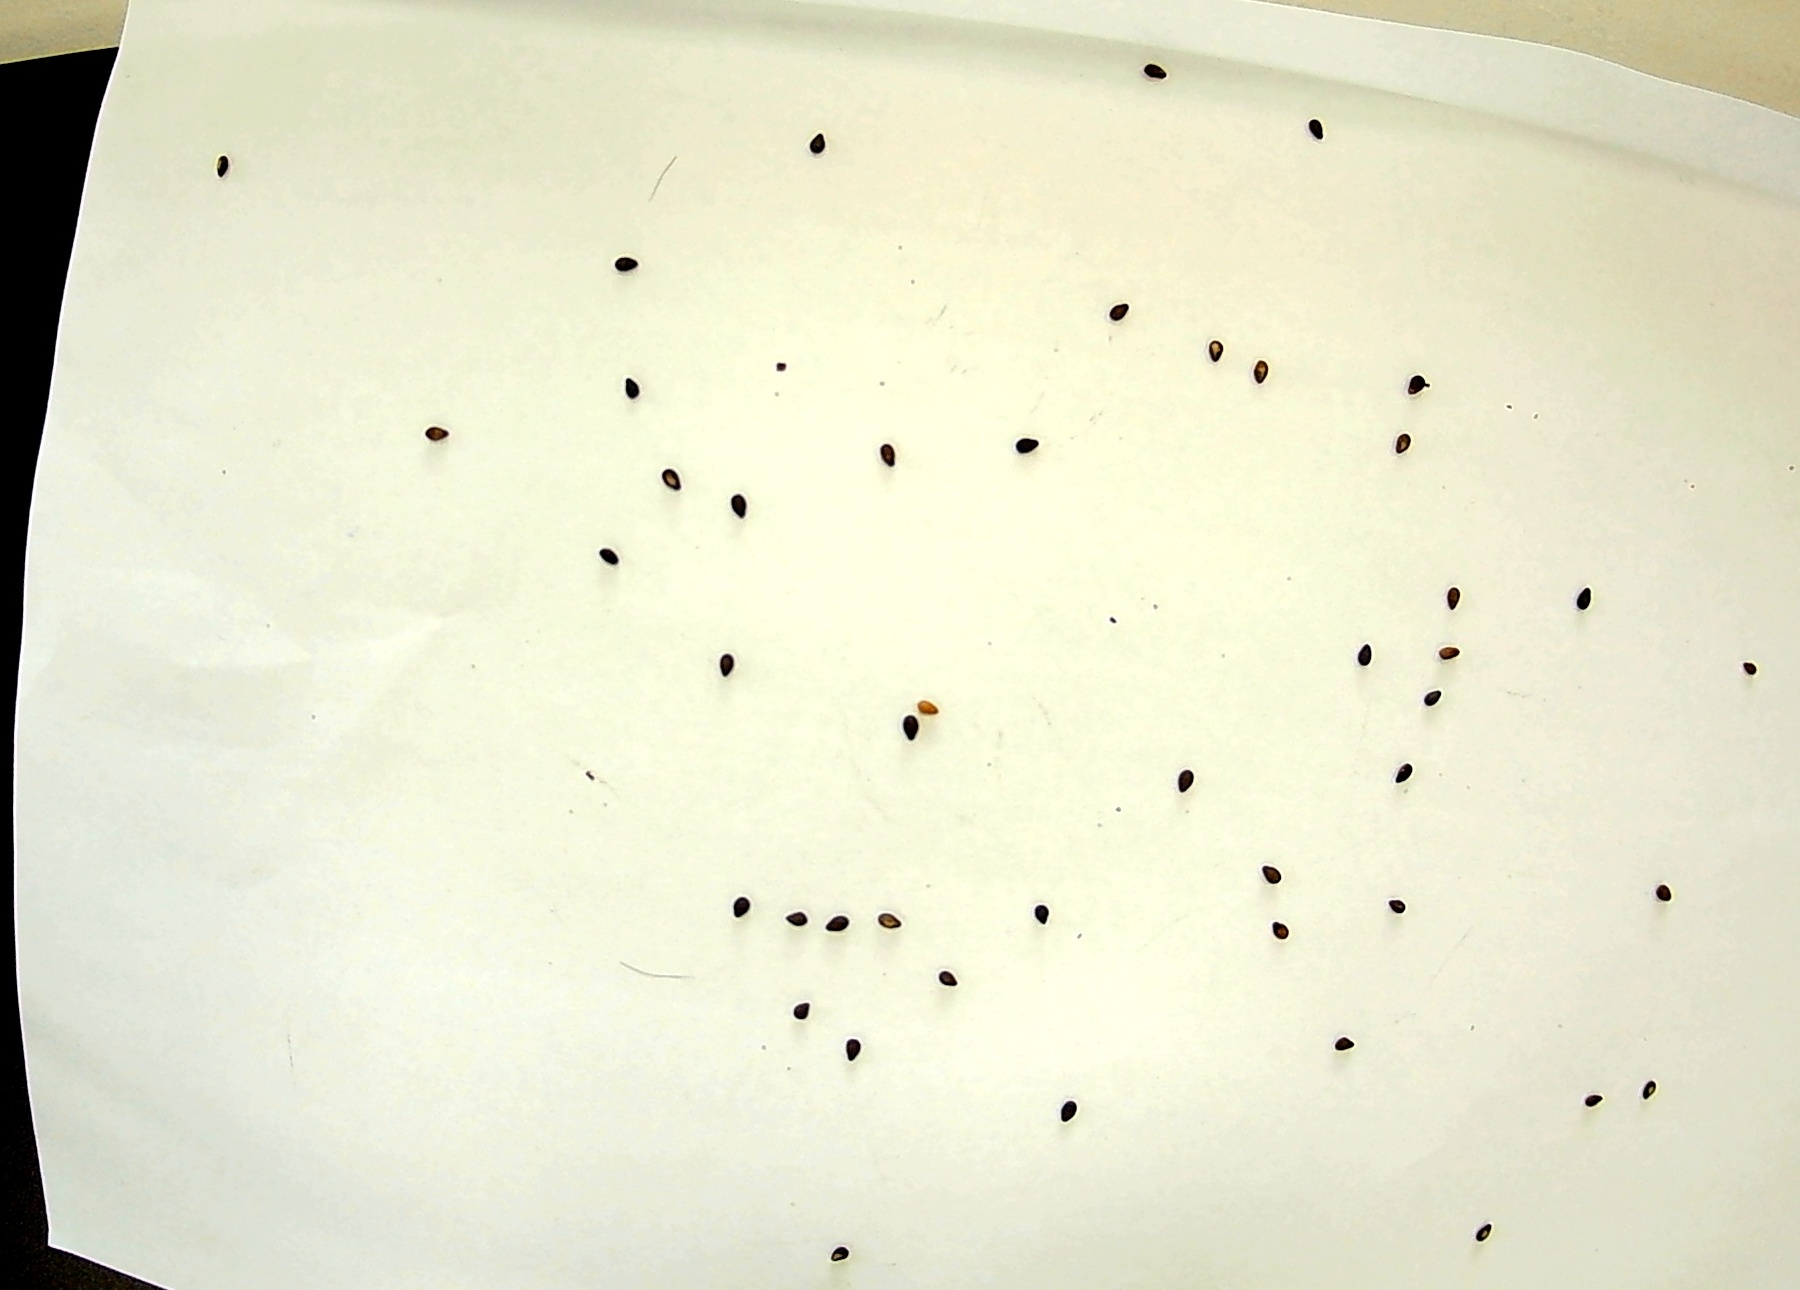sesami: (936, 963, 971, 1007), (837, 1026, 872, 1069), (784, 986, 819, 1029), (825, 1233, 860, 1276), (1052, 1093, 1087, 1136), (1017, 900, 1052, 944), (1171, 757, 1206, 800), (1348, 639, 1383, 683), (1254, 850, 1289, 894), (412, 415, 449, 454), (1252, 919, 1287, 961), (705, 653, 742, 691), (714, 894, 752, 931), (207, 147, 243, 186), (772, 900, 808, 940), (592, 536, 628, 574), (883, 709, 920, 747), (820, 907, 857, 945), (862, 907, 899, 945), (871, 438, 906, 475), (1013, 431, 1048, 468), (719, 487, 753, 524), (610, 367, 645, 403), (613, 244, 647, 281), (807, 123, 841, 159), (657, 464, 692, 498), (1575, 1081, 1607, 1113), (1376, 894, 1407, 926), (1420, 688, 1453, 719), (1434, 639, 1465, 672), (1568, 586, 1599, 618), (1388, 429, 1419, 461), (1395, 366, 1426, 398), (1245, 349, 1275, 381), (1204, 336, 1235, 369), (1307, 112, 1338, 144), (1139, 54, 1169, 87), (1104, 297, 1134, 329), (1653, 870, 1684, 900), (1634, 1068, 1665, 1099), (1468, 1222, 1499, 1252), (1327, 1030, 1358, 1061), (1386, 757, 1416, 787), (1430, 582, 1461, 613), (1732, 649, 1760, 679)
